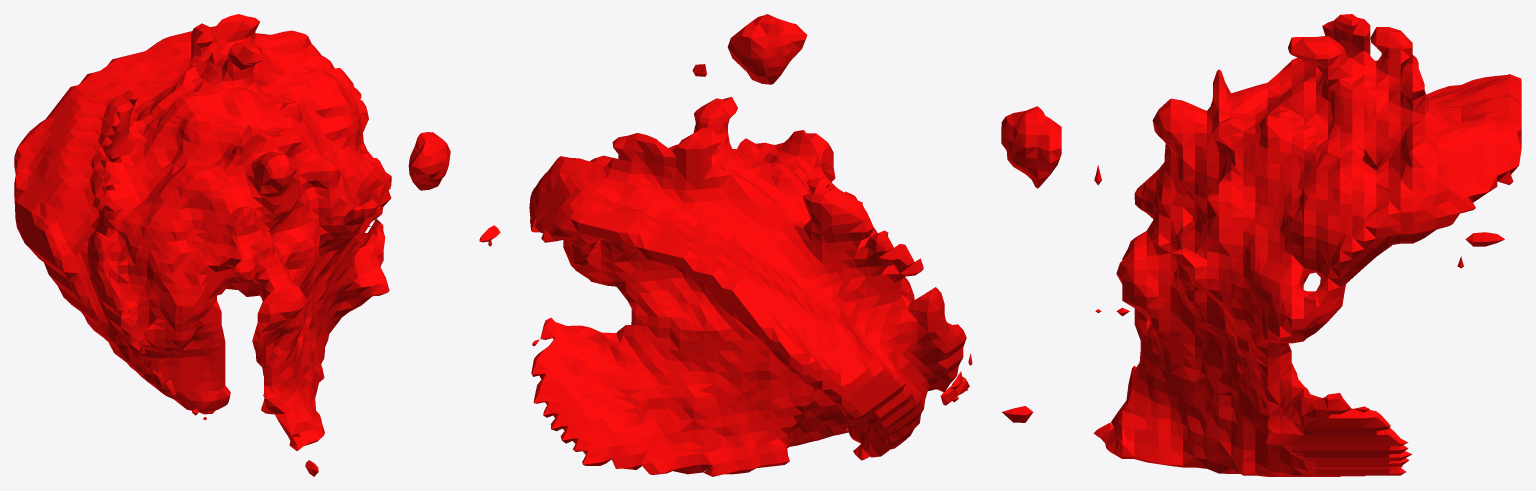
The model's file is B939XXXX-1_valve_33.obj.
3 renders of one model, left to right at view 1: azimuth 30°, elevation 25°; view 2: azimuth 150°, elevation 25°; view 3: azimuth 270°, elevation 25°, orthographic. The views are drawn at different scales.
Parts seen in each view (by area): view 1: 33_valve; view 2: 33_valve; view 3: 33_valve.
Part boxes in pixels (<box>): 33_valve: <box>14,14,450,476</box>; 33_valve: <box>479,14,972,476</box>; 33_valve: <box>1001,14,1521,476</box>.
Size of the model in its own units: 75.65 by 76.97 by 85.95.
